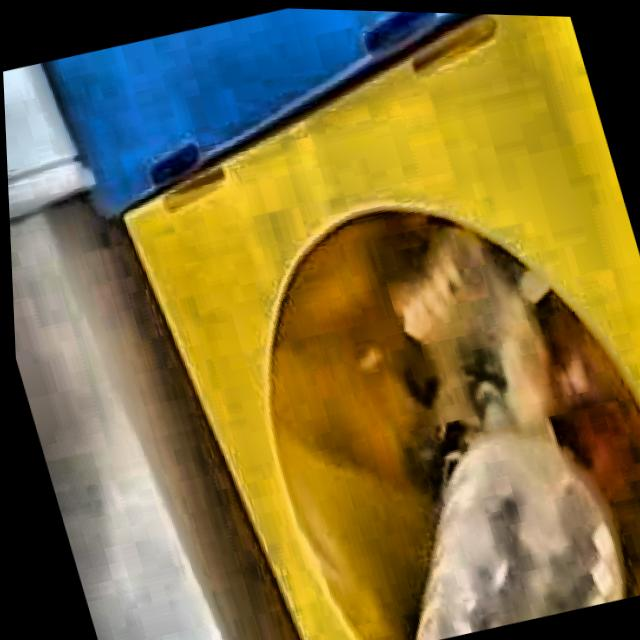plastic: (411, 427, 621, 640)
